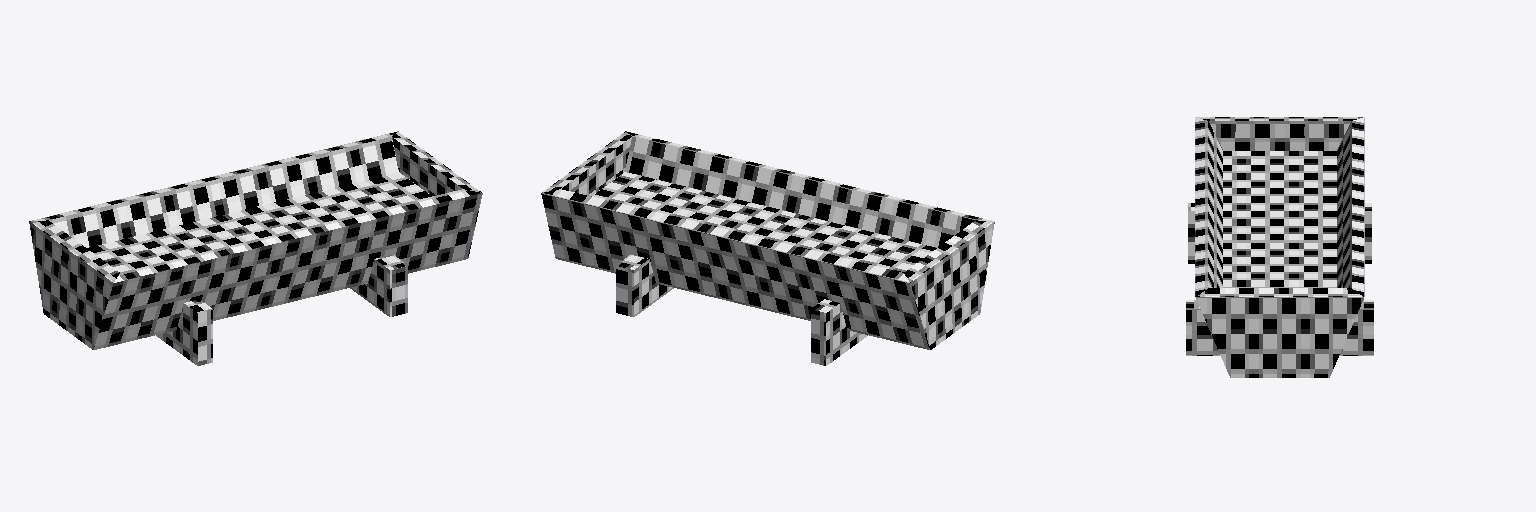
The picture shows the model from 3 angles: view 1: azimuth 30°, elevation 25°; view 2: azimuth 150°, elevation 25°; view 3: azimuth 270°, elevation 25°; orthographic projection.
Visible parts, largest first — view 1: Object001; view 2: Object001; view 3: Object001.
Part boxes in pixels (x1,y1,x2,y2): Object001: (29,131,482,365); Object001: (541,131,994,365); Object001: (1186,117,1373,377).
Bounding box in the file's own units: 30.26 × 7.91 × 13.1.
Materials: 1 (1 with a texture image).